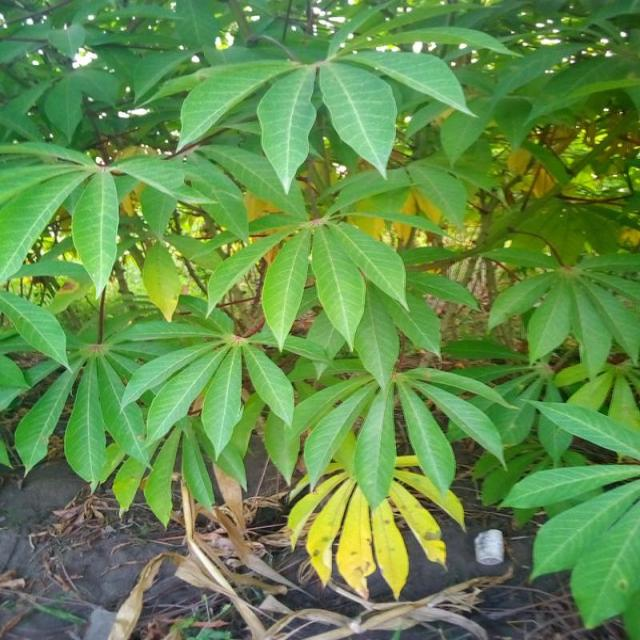cassava leaf: (318, 59, 397, 180), (255, 62, 317, 195), (70, 168, 120, 300)
